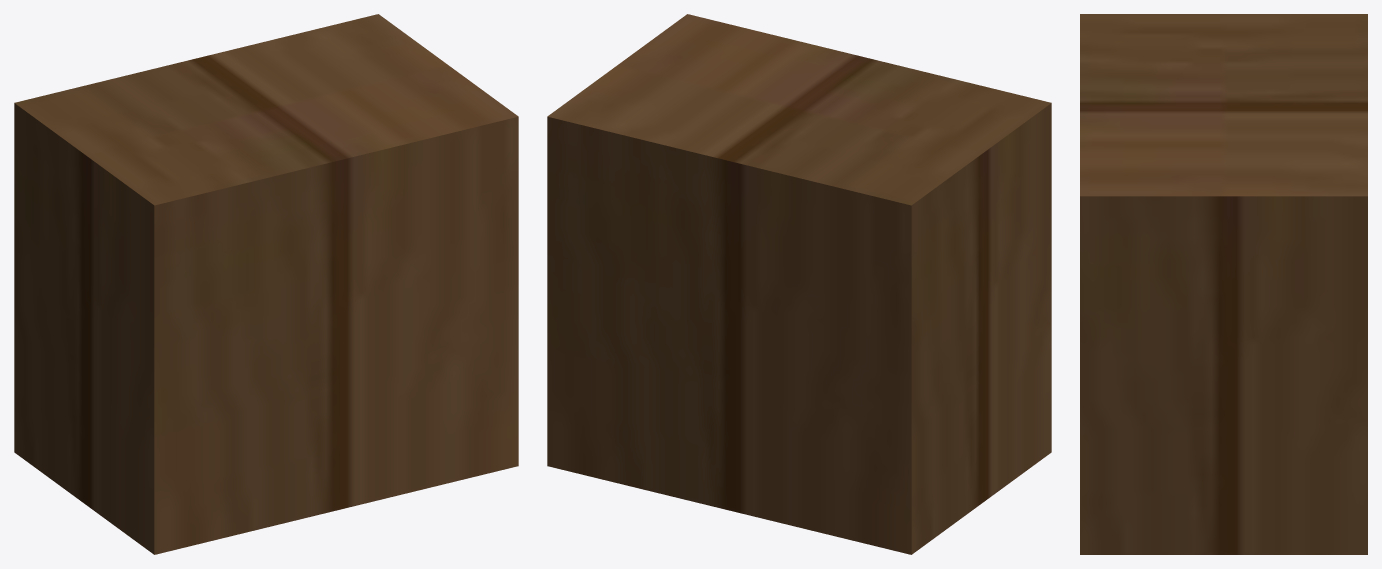
Rendered from cargo.t0.glb.
The picture shows the model from 3 angles, left to right: view 1: azimuth 30°, elevation 25°; view 2: azimuth 150°, elevation 25°; view 3: azimuth 270°, elevation 25°; orthographic projection. The views are drawn at different scales.
Parts seen in each view (by area): view 1: courier.cargo.t0; view 2: courier.cargo.t0; view 3: courier.cargo.t0.
Boxes of the visible parts, x1=… form: courier.cargo.t0: x1=14, y1=14, x2=518, y2=554; courier.cargo.t0: x1=547, y1=14, x2=1051, y2=554; courier.cargo.t0: x1=1080, y1=14, x2=1367, y2=554.
Bounding box in the file's own units: 0.24 × 0.22 × 0.16.
Materials: 1 (1 with a texture image).
